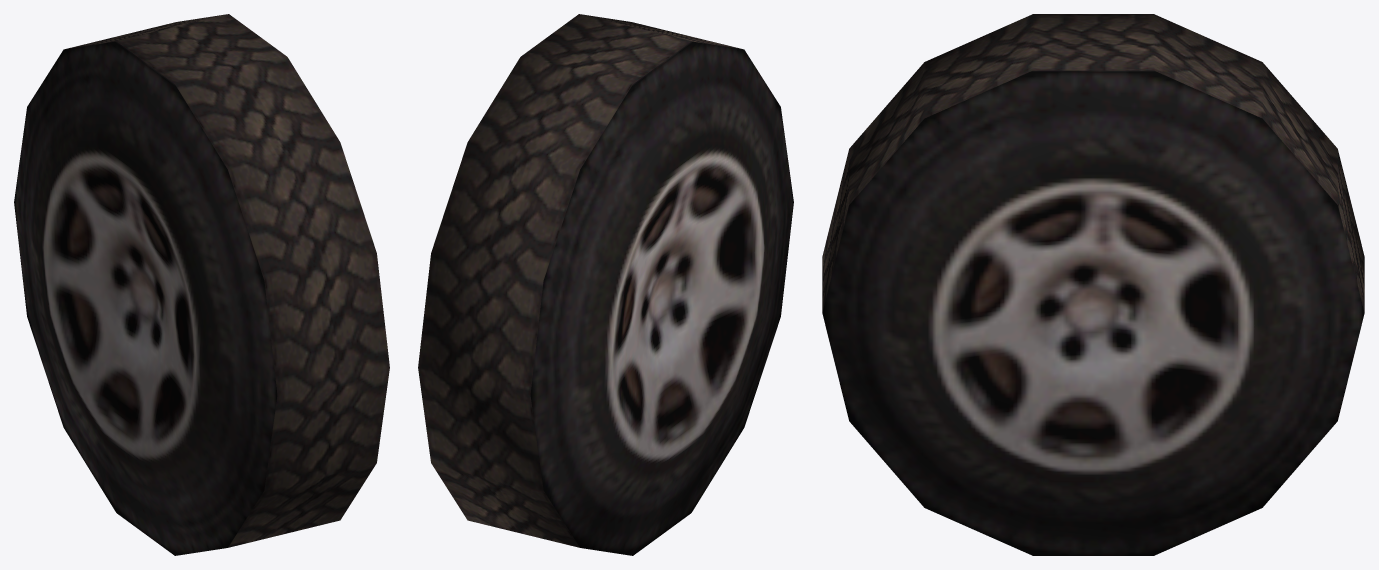
Rendered from mega_wheel.obj.
3 renders of one model, left to right at view 1: azimuth 30°, elevation 25°; view 2: azimuth 150°, elevation 25°; view 3: azimuth 270°, elevation 25°, orthographic. The views are drawn at different scales.
Parts seen in each view (by area): view 1: DrawCall_7; view 2: DrawCall_7; view 3: DrawCall_7.
Boxes of the visible parts, box(x1,y1,x2,y2) form: DrawCall_7: box(14, 14, 389, 555); DrawCall_7: box(418, 14, 793, 555); DrawCall_7: box(822, 14, 1364, 555).
Size of the model in its own units: 0.72 by 2 by 2.02.
Materials: 2 (2 with a texture image).
